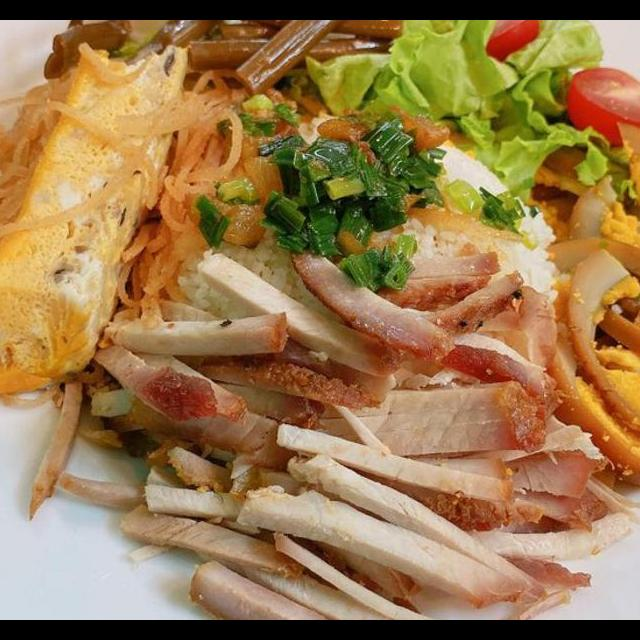bi: (109, 61, 299, 332), (0, 68, 79, 370)
cha: (0, 35, 195, 404)
com: (167, 101, 571, 369)
com suon bi cha trung: (0, 61, 640, 613)
dua chua: (40, 21, 423, 102)
suon: (15, 240, 640, 620)
trung: (519, 117, 640, 494)
